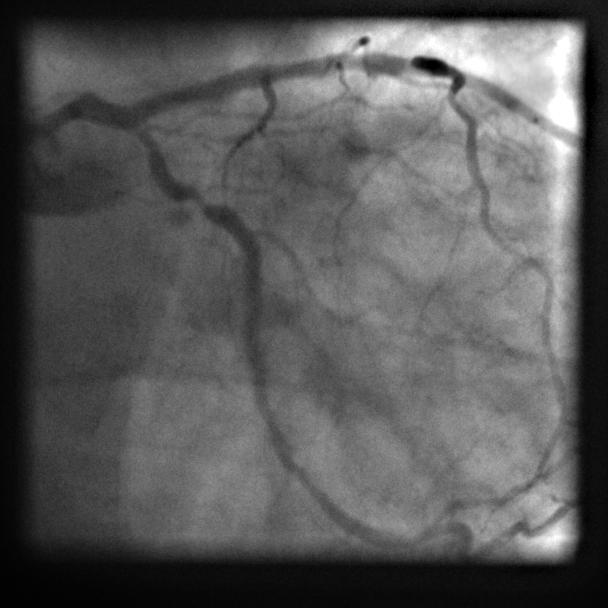Stenosis: (185, 186, 210, 212)
